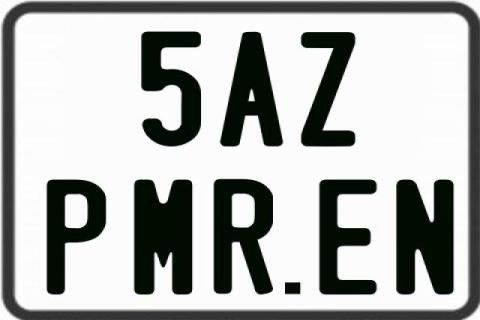0: (140, 29, 200, 150)
A: (219, 30, 287, 148)
E: (318, 178, 377, 296)
M: (134, 178, 192, 296)
N: (396, 179, 458, 295)
P: (47, 178, 106, 294)
R: (212, 179, 277, 297)
Z: (301, 32, 359, 150)
